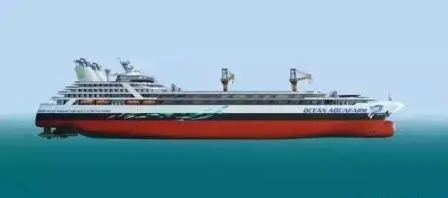Cargoship: (28, 53, 404, 138)
